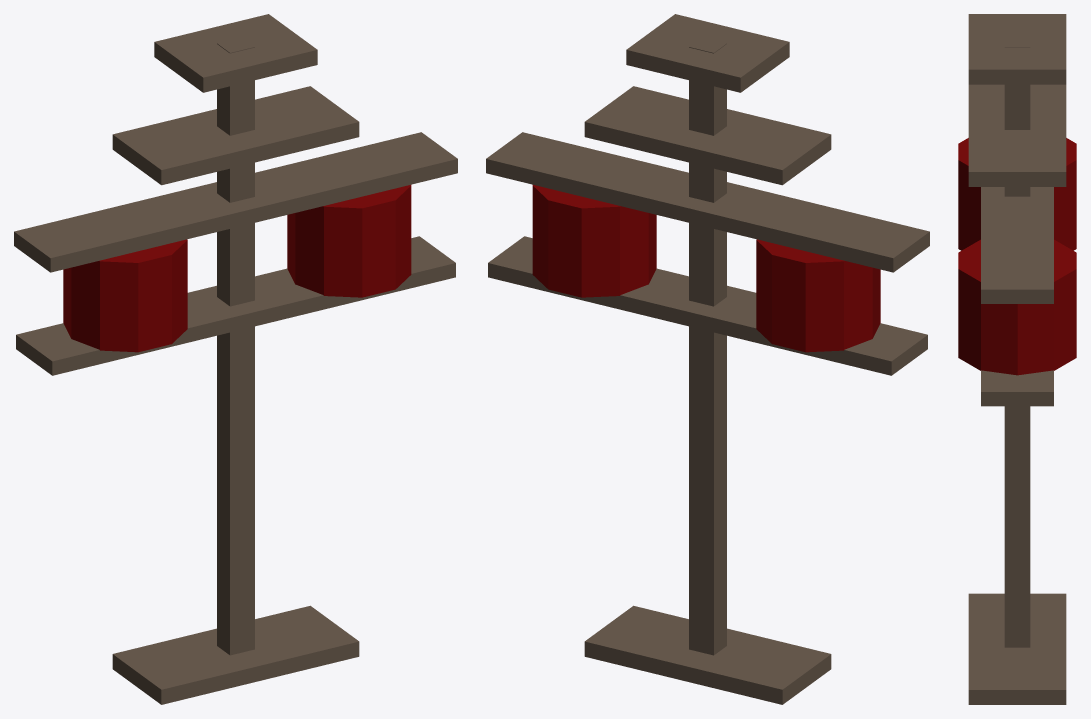
File: Light A.fbx
The picture shows the model from 3 angles, left to right: view 1: azimuth 30°, elevation 25°; view 2: azimuth 150°, elevation 25°; view 3: azimuth 270°, elevation 25°; orthographic projection.
Visible parts, largest first — view 1: pCube3, pCube1, pCube5, pCube4, pCylinder1, pCylinder2, pCube2, pCube6; view 2: pCube3, pCube1, pCube5, pCube4, pCylinder1, pCylinder2, pCube2, pCube6; view 3: pCylinder1, pCube4, pCube5, pCube1, pCube3, pCube6, pCylinder2, pCube2.
Boxes of the visible parts, x1=… form: pCube3: x1=14, y1=132, x2=457, y2=272; pCube1: x1=217, y1=37, x2=254, y2=655; pCube5: x1=112, y1=86, x2=359, y2=185; pCube4: x1=112, y1=605, x2=359, y2=704; pCylinder1: x1=287, y1=185, x2=411, y2=297; pCylinder2: x1=63, y1=239, x2=187, y2=352; pCube2: x1=16, y1=236, x2=455, y2=375; pCube6: x1=154, y1=14, x2=317, y2=92; pCube3: x1=486, y1=132, x2=929, y2=272; pCube1: x1=689, y1=37, x2=726, y2=655; pCube5: x1=584, y1=86, x2=831, y2=185; pCube4: x1=584, y1=605, x2=831, y2=704; pCylinder1: x1=532, y1=185, x2=656, y2=297; pCylinder2: x1=756, y1=239, x2=880, y2=352; pCube2: x1=488, y1=236, x2=927, y2=375; pCube6: x1=626, y1=14, x2=789, y2=92; pCylinder1: x1=958, y1=239, x2=1076, y2=375; pCube4: x1=968, y1=593, x2=1066, y2=704; pCube5: x1=968, y1=84, x2=1066, y2=186; pCube1: x1=1004, y1=35, x2=1030, y2=647; pCube3: x1=981, y1=187, x2=1053, y2=303; pCube6: x1=968, y1=14, x2=1066, y2=84; pCylinder2: x1=958, y1=138, x2=1076, y2=250; pCube2: x1=981, y1=370, x2=1053, y2=406.
Bounding box in the file's own units: 9.55 × 13.92 × 2.41.
